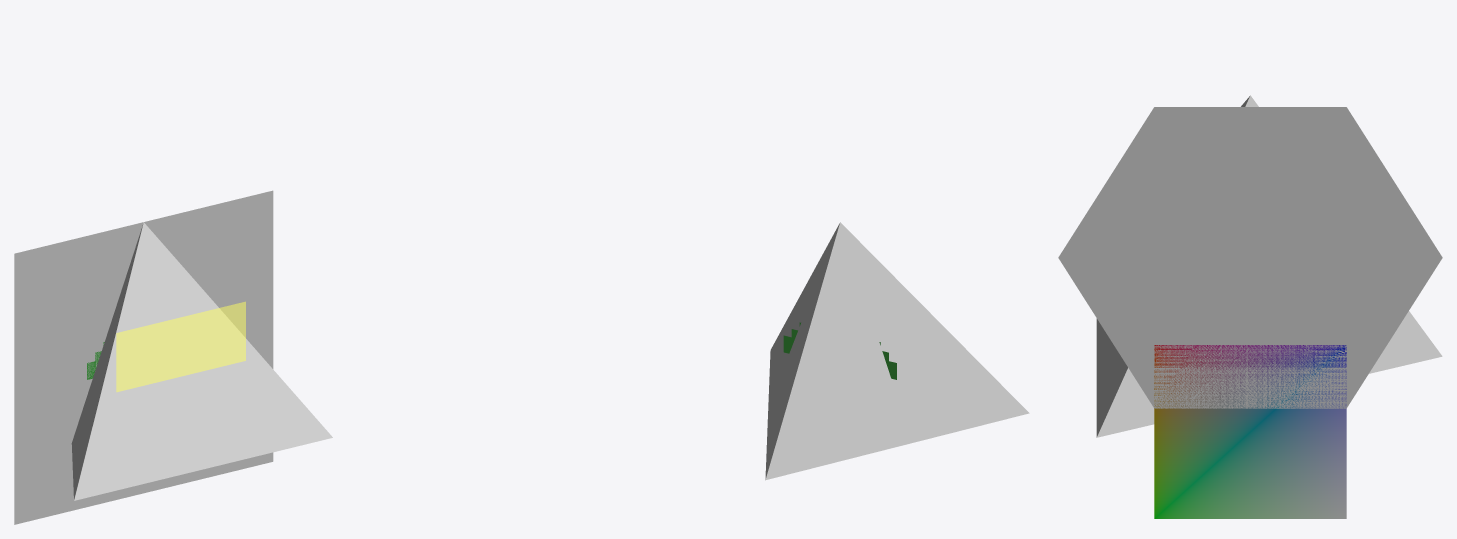
Rendered from Shapes.glb.
3 renders of one model, left to right at view 1: azimuth 30°, elevation 25°; view 2: azimuth 150°, elevation 25°; view 3: azimuth 270°, elevation 25°, orthographic. The views are drawn at different scales.
Parts seen in each view (by area): view 1: Quantized, Faceted, TwoMaterials; view 2: Faceted; view 3: Fan, Strip, Faceted.
Boxes of the visible parts, box(x1,y1,x2,y2) form: Quantized: box(14, 190, 273, 524); Faceted: box(71, 222, 332, 500); TwoMaterials: box(87, 301, 245, 391); Faceted: box(765, 222, 1029, 480); Fan: box(1058, 107, 1442, 408); Strip: box(1154, 345, 1346, 518); Faceted: box(1096, 95, 1442, 437).
Bounding box in the file's own units: 3 × 2.87 × 2.
Materials: 2 (1 with a texture image).
